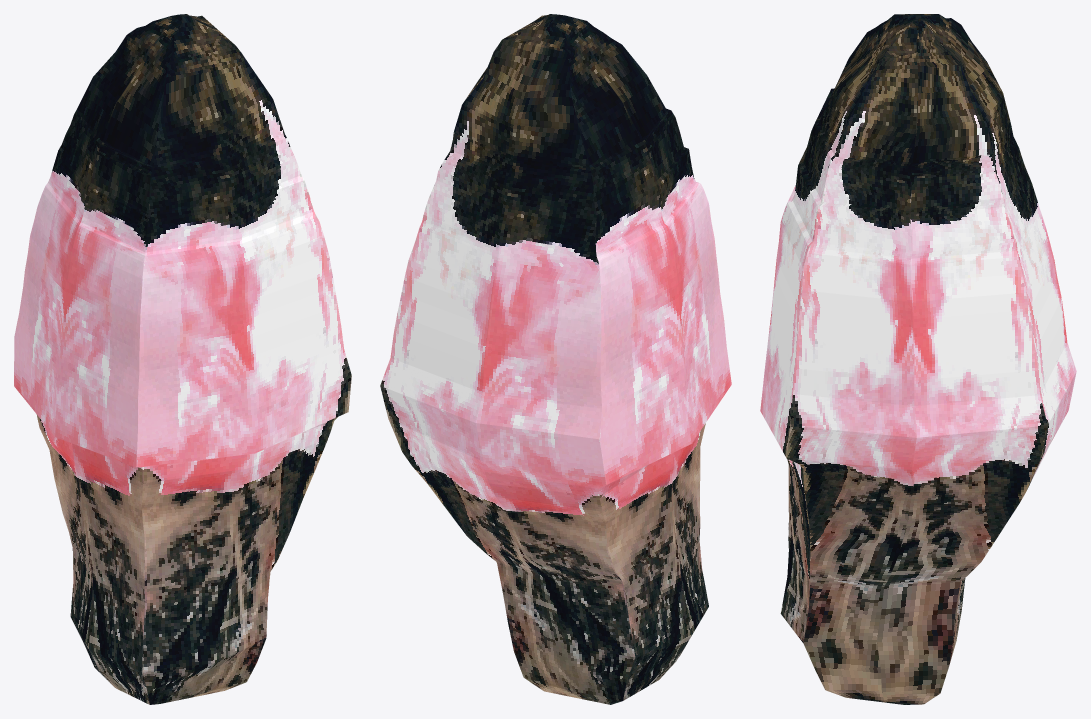
File: metamorphosis_v12_t.glb
The picture shows the model from 3 angles, left to right: view 1: azimuth 30°, elevation 25°; view 2: azimuth 150°, elevation 25°; view 3: azimuth 270°, elevation 25°; orthographic projection. The views are drawn at different scales.
Parts seen in each view (by area): view 1: Cube; view 2: Cube; view 3: Cube.
Boxes of the visible parts, box(x1,y1,x2,y2) form: Cube: box(14, 14, 351, 704); Cube: box(380, 14, 731, 704); Cube: box(760, 14, 1076, 704).
Size of the model in its own units: 1.39 by 3.38 by 1.39.
1 material, 1 textured.
